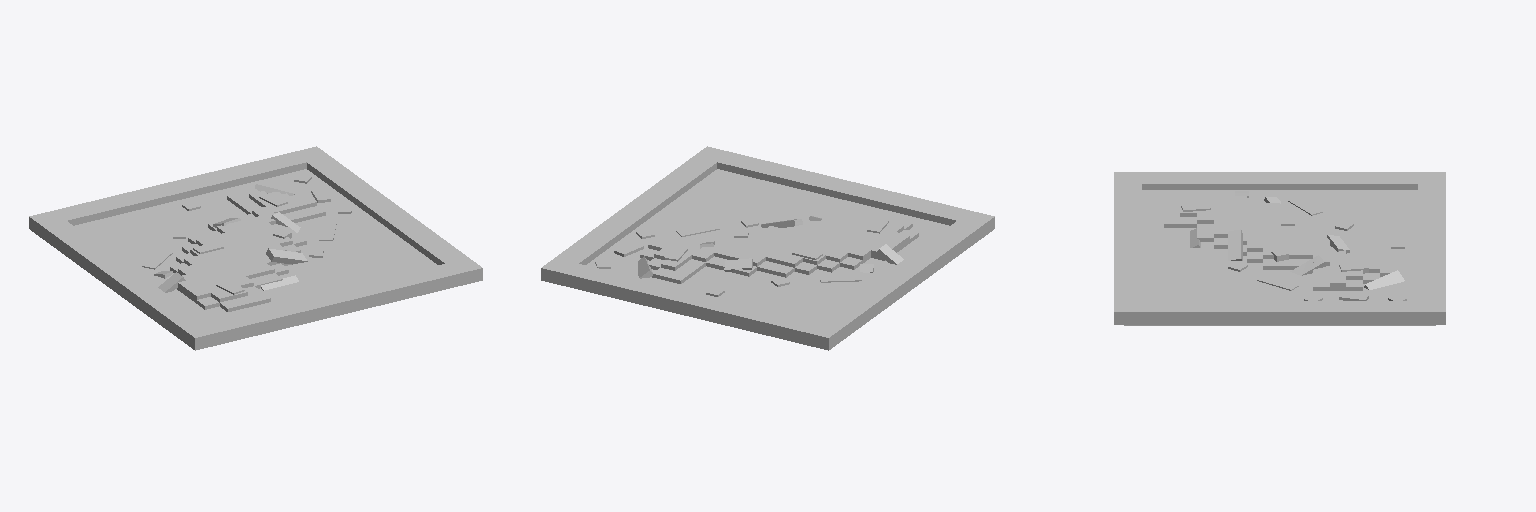
The model's file is fish0.obj.
3 renders of one model, left to right at view 1: azimuth 30°, elevation 25°; view 2: azimuth 150°, elevation 25°; view 3: azimuth 270°, elevation 25°, orthographic.
Parts seen in each view (by area): view 1: Box001, Plane019, Plane001; view 2: Box001, Plane019, Plane001; view 3: Box001, Plane019, Plane001.
Part boxes in pixels (x1,y1,x2,y2): Box001: (29, 146, 482, 350); Plane019: (75, 169, 437, 321); Plane001: (170, 189, 325, 311); Box001: (541, 146, 994, 350); Plane019: (586, 169, 948, 321); Plane001: (640, 213, 918, 283); Box001: (1114, 172, 1445, 325); Plane019: (1142, 190, 1417, 300); Plane001: (1164, 192, 1395, 290).
Bounding box in the file's own units: 0.744 × 0.1158 × 0.744.